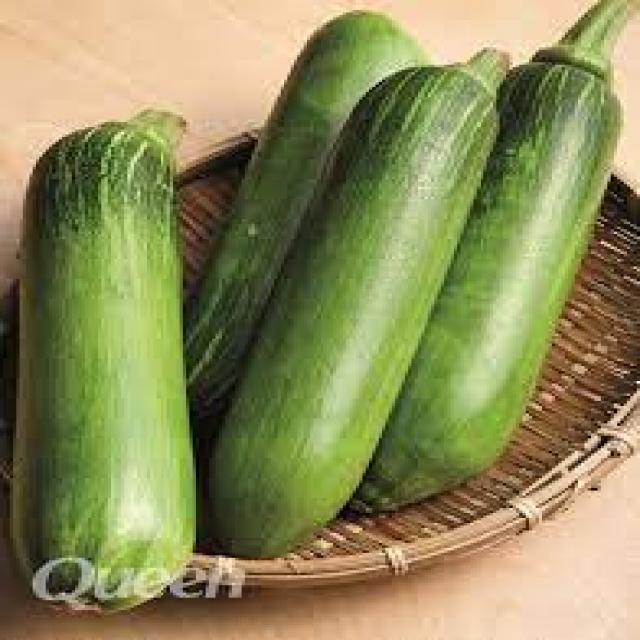yogurt: (209, 50, 509, 559), (16, 110, 196, 611)
